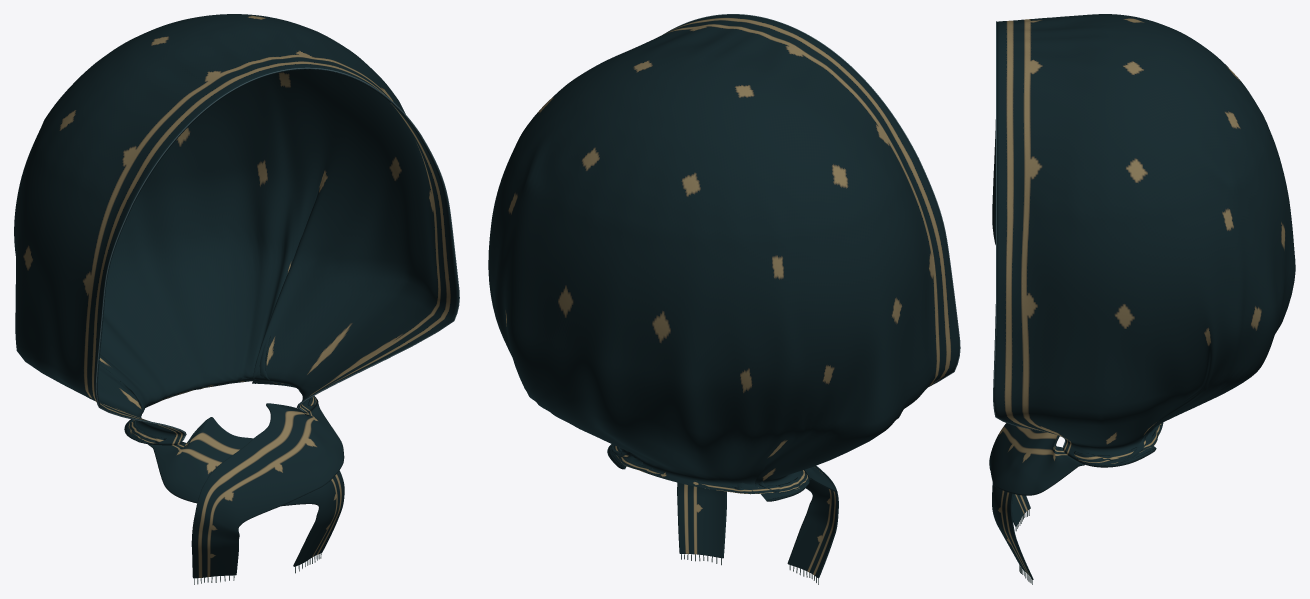
Rendered from Feminine-strappy-pashmina236-headgear.glb.
3 renders of one model, left to right at view 1: azimuth 30°, elevation 25°; view 2: azimuth 150°, elevation 25°; view 3: azimuth 270°, elevation 25°, orthographic. The views are drawn at different scales.
Visible parts, largest first — view 1: 226 headgear / Headwear / continuous woven pashmina236, 226 headgear / Headwear / face edge236; view 2: 226 headgear / Headwear / continuous woven pashmina236, 226 headgear / Headwear / face edge236; view 3: 226 headgear / Headwear / continuous woven pashmina236, 226 headgear / Headwear / face edge236.
Boxes of the visible parts, x1,y1,x2,y2 form: 226 headgear / Headwear / continuous woven pashmina236: (14, 14, 458, 578); 226 headgear / Headwear / face edge236: (95, 67, 459, 441); 226 headgear / Headwear / continuous woven pashmina236: (488, 14, 959, 578); 226 headgear / Headwear / face edge236: (663, 14, 960, 386); 226 headgear / Headwear / continuous woven pashmina236: (989, 14, 1295, 579); 226 headgear / Headwear / face edge236: (993, 21, 1065, 447).
Size of the model in its own units: 1.02 by 1.35 by 0.7191.
3 materials, 1 textured.
